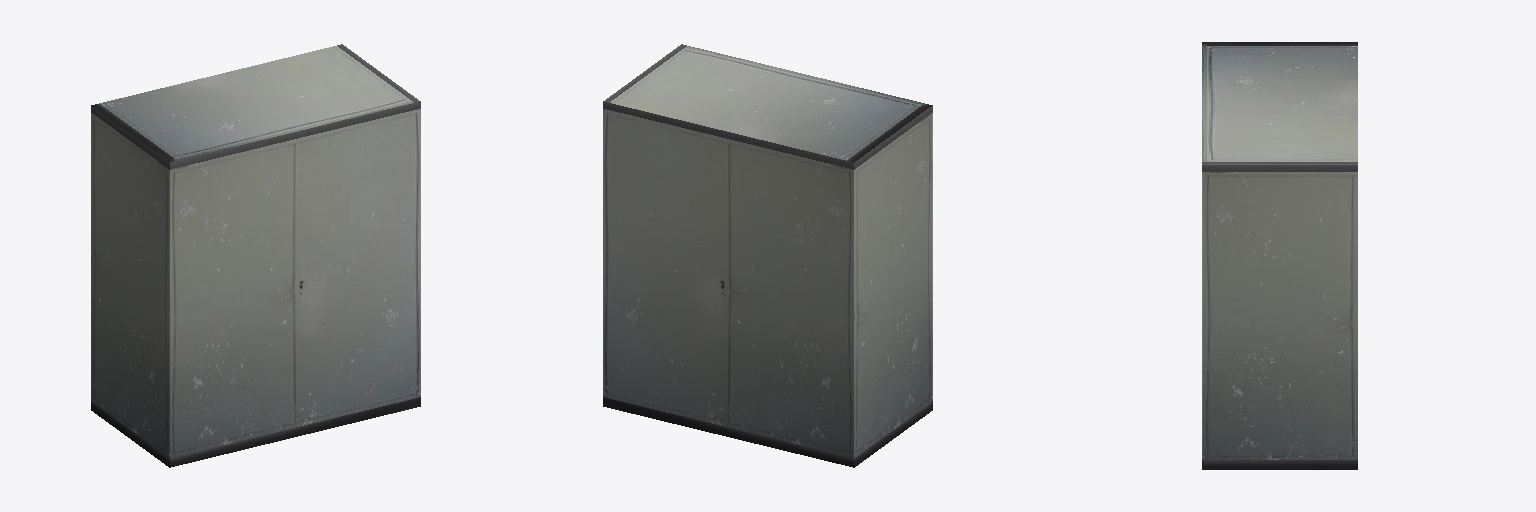
3 renders of one model, left to right at view 1: azimuth 30°, elevation 25°; view 2: azimuth 150°, elevation 25°; view 3: azimuth 270°, elevation 25°, orthographic.
Parts seen in each view (by area): view 1: electricBox_3_v1; view 2: electricBox_3_v1; view 3: electricBox_3_v1.
Boxes of the visible parts, box(x1,y1,x2,y2) form: electricBox_3_v1: box(91, 44, 420, 467); electricBox_3_v1: box(603, 44, 932, 467); electricBox_3_v1: box(1202, 42, 1357, 469).
Size of the model in its own units: 0.8578 by 0.997 by 0.4634.
1 materials, 1 textured.